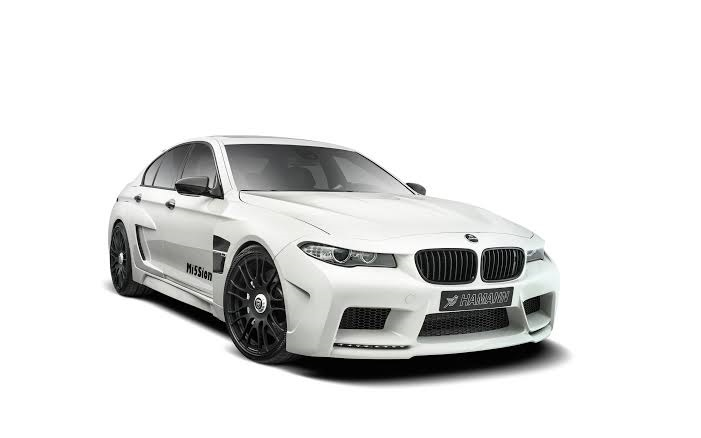bmw: (93, 133, 609, 376)
